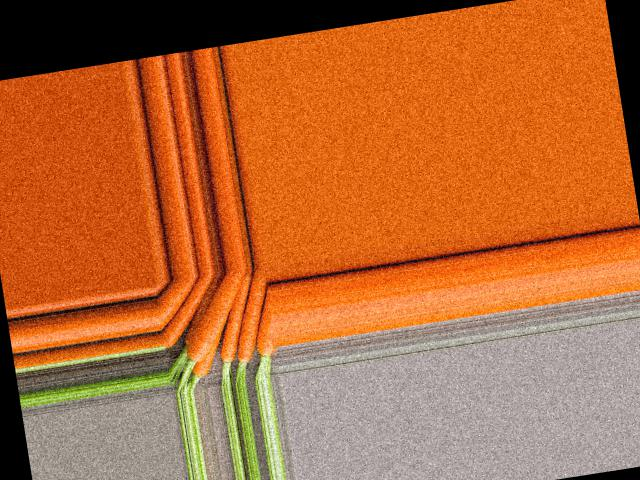carrot: (155, 274, 216, 348)
